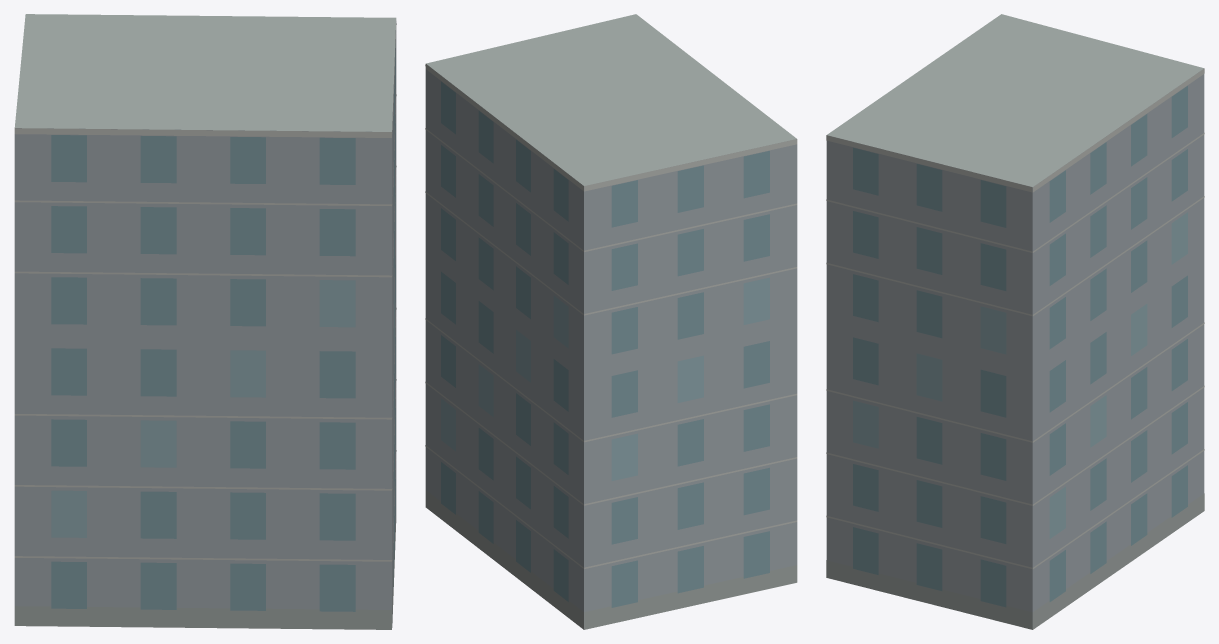
Rendered from survey-upis-32726597.glb.
3 views of the same model, side by side, from view 1: azimuth 30°, elevation 25°; view 2: azimuth 150°, elevation 25°; view 3: azimuth 270°, elevation 25° (orthographic). The views are drawn at different scales.
Visible parts, largest first — view 1: survey-upis-32726597.tmp; view 2: survey-upis-32726597.tmp; view 3: survey-upis-32726597.tmp.
Part boxes in pixels (x1,y1,x2,y2): survey-upis-32726597.tmp: (14,14,396,629); survey-upis-32726597.tmp: (425,14,797,629); survey-upis-32726597.tmp: (826,14,1204,629).
Bounding box in the file's own units: 16.72 × 19.9 × 15.42.
